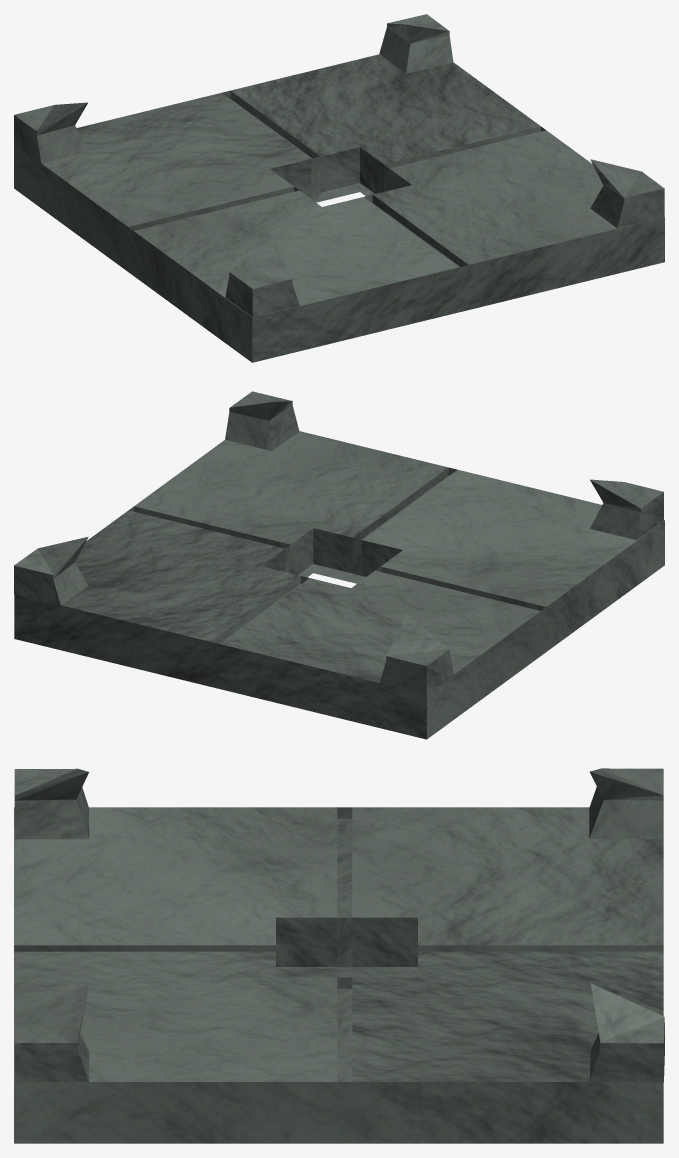
Rendered from Checkpoint_Base.fbx.
3 renders of one model, top to bottom at view 1: azimuth 30°, elevation 25°; view 2: azimuth 150°, elevation 25°; view 3: azimuth 270°, elevation 25°, orthographic. The views are drawn at different scales.
Parts seen in each view (by area): view 1: polySurface1; view 2: polySurface1; view 3: polySurface1.
Boxes of the visible parts, box(x1,y1,x2,y2) form: polySurface1: box(14, 14, 664, 362); polySurface1: box(14, 391, 664, 739); polySurface1: box(14, 768, 664, 1143).
Size of the model in its own units: 12.59 by 2.75 by 12.6.
